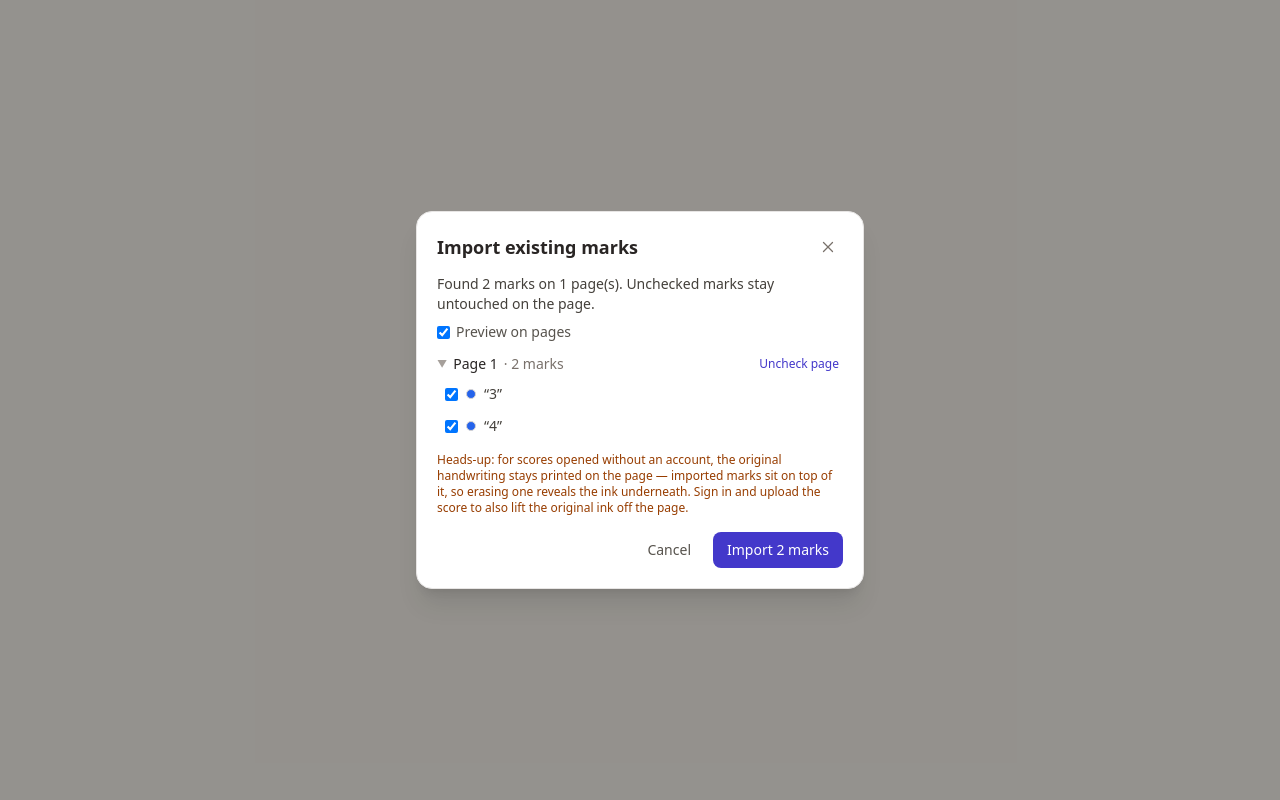
Scenario: ImportReviewPanel › imports only checked items
Expected: the text "Found" is shown, [437,274,482,293]
Click the checkbox labelled "“3”". click: click(452, 394)
box: [445,388,458,400]
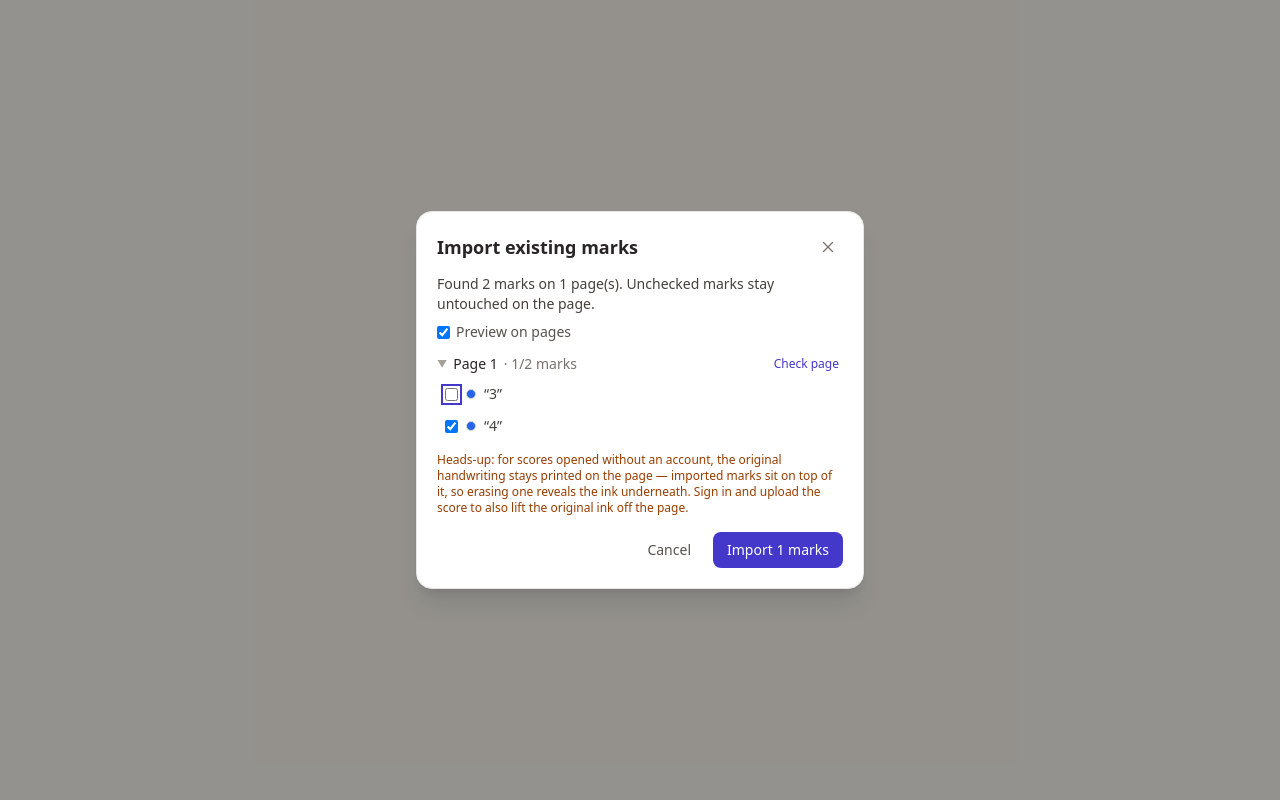
Click the button "Import 1 marks". click: click(778, 550)
box: [713,532,843,568]
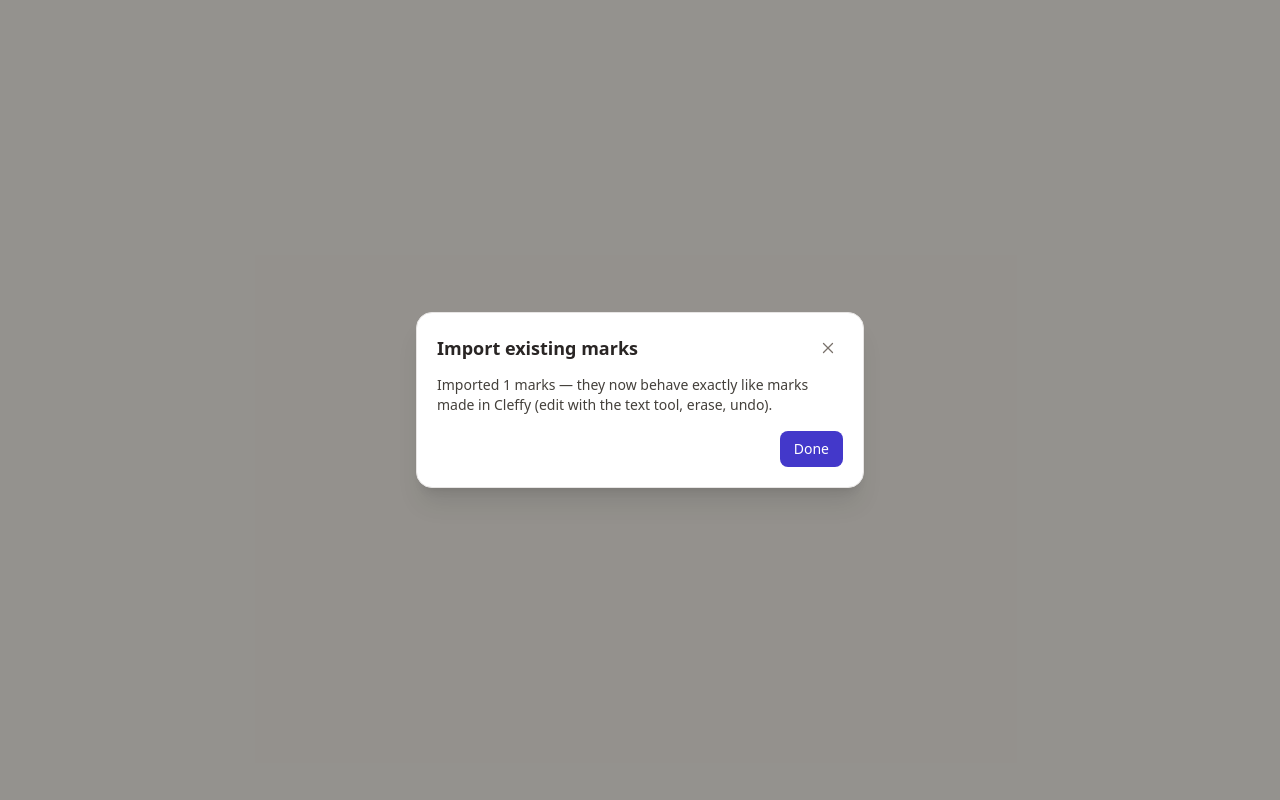
Now the text "Imported 1 marks" is shown, box [437,375,843,415]
